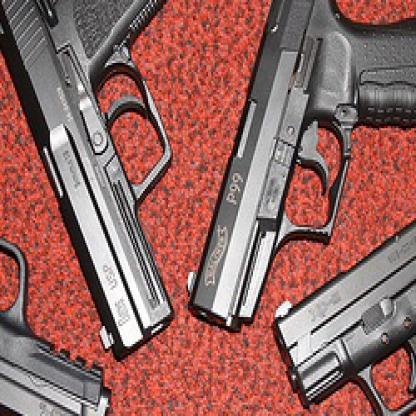gun: (177, 0, 415, 329), (0, 0, 203, 362), (0, 31, 112, 414), (272, 168, 414, 414)
